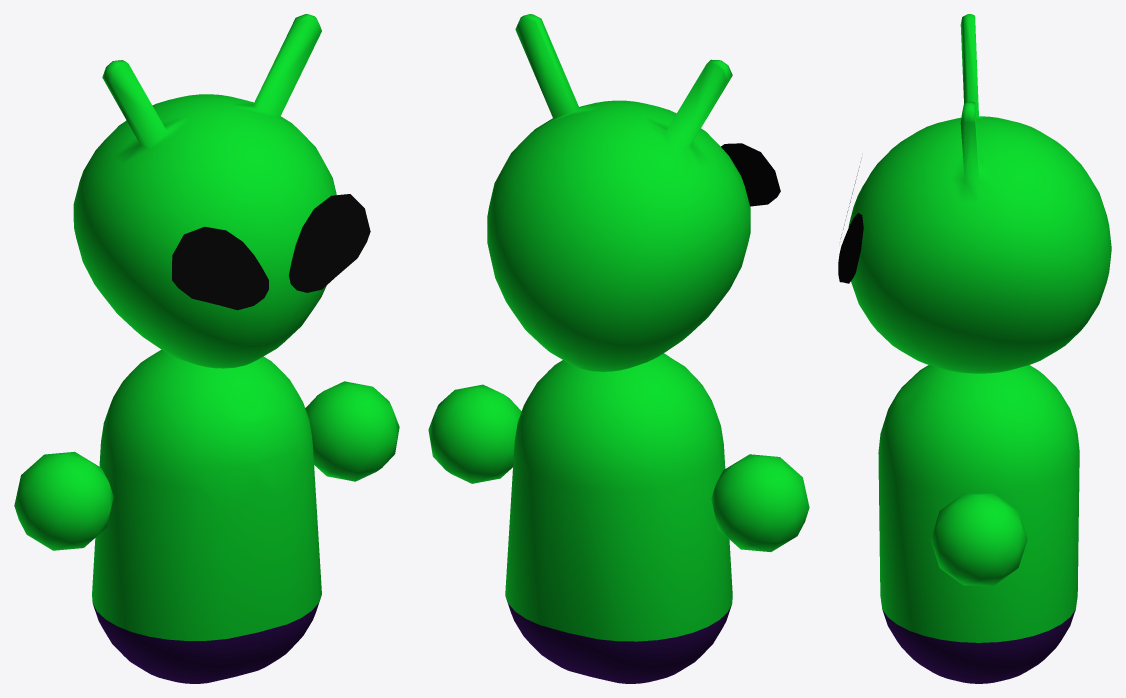
The model's file is npc_marciano.fbx.
3 renders of one model, left to right at view 1: azimuth 30°, elevation 25°; view 2: azimuth 150°, elevation 25°; view 3: azimuth 270°, elevation 25°, orthographic. The views are drawn at different scales.
Visible parts, largest first — view 1: Sphere, Sphere.001, Icosphere, Sphere.002; view 2: Sphere, Sphere.001, Icosphere, Sphere.002; view 3: Sphere.001, Sphere, Icosphere, Sphere.002.
Boxes of the visible parts, x1=… form: Sphere: x1=92, y1=349, x2=321, y2=683; Sphere.001: x1=73, y1=14, x2=336, y2=368; Icosphere: x1=14, y1=381, x2=399, y2=550; Sphere.002: x1=172, y1=194, x2=370, y2=310; Sphere: x1=505, y1=353, x2=732, y2=683; Sphere.001: x1=487, y1=14, x2=750, y2=371; Icosphere: x1=428, y1=384, x2=809, y2=551; Sphere.002: x1=721, y1=143, x2=780, y2=206; Sphere.001: x1=848, y1=14, x2=1111, y2=373; Sphere: x1=878, y1=365, x2=1079, y2=683; Icosphere: x1=930, y1=493, x2=1027, y2=585; Sphere.002: x1=838, y1=158, x2=863, y2=283.
Size of the model in its own units: 406 by 668 by 272.
